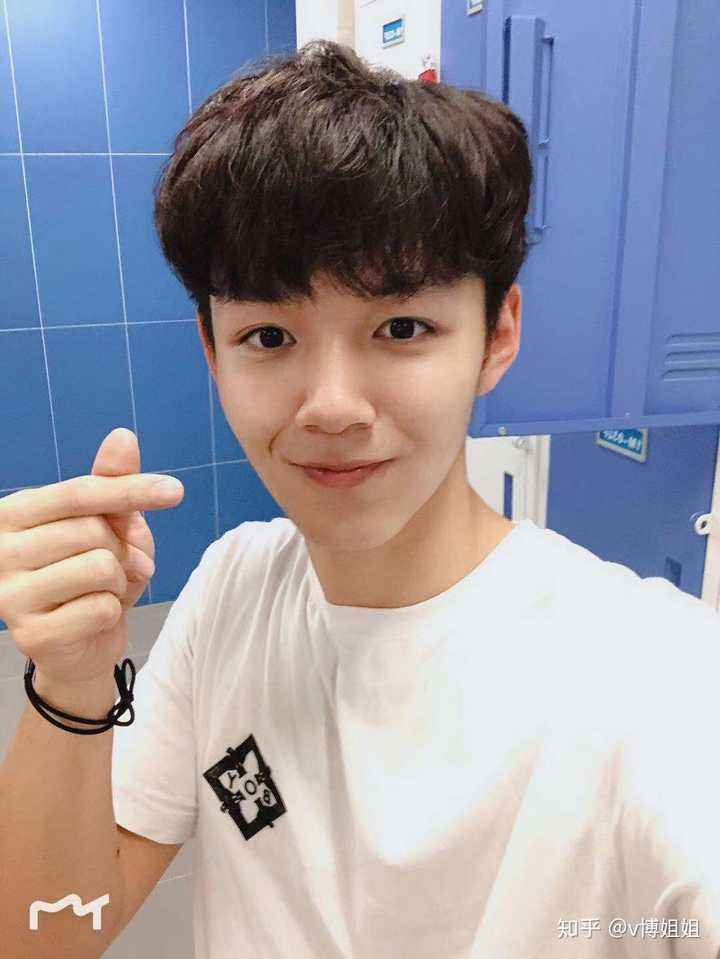person: (150, 58, 706, 959)
